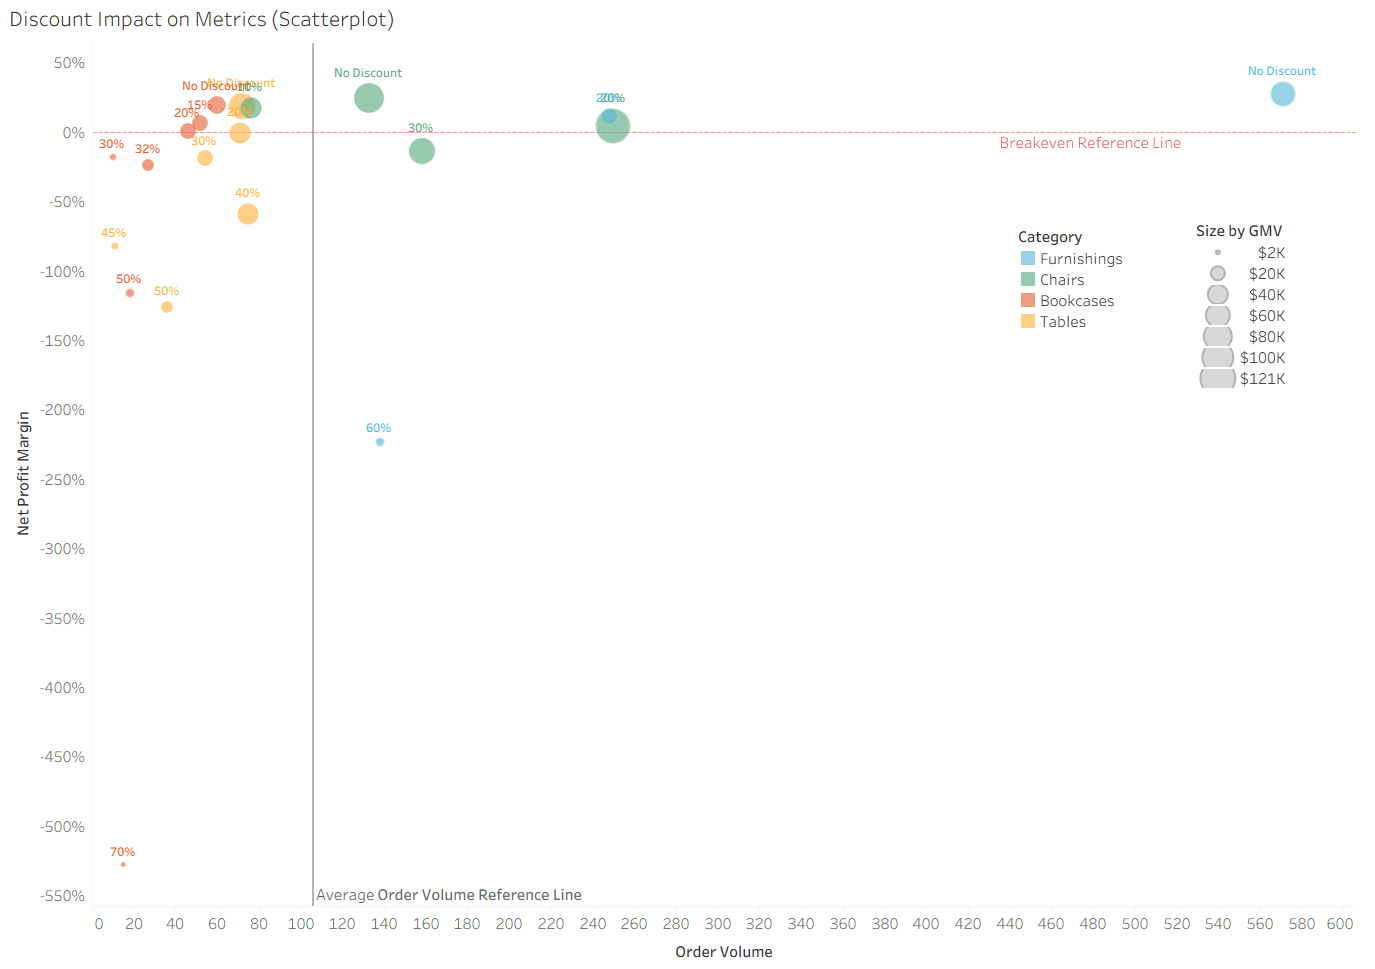

Layout of this report page (visuals, bound fields, positions):
{"tool":"tableau","page":{"name":"Discount impact analysis","canvas":[1000,1000],"units":"permille","ordinal":1},"visuals":[{"type":"worksheet","title":"Discount Impact on Metrics (Scatterplot)","mark":"Automatic","rows":["Calculation_1501950486141198336"],"cols":["Fact_Sale.csv_DD4AFE6C198B4024BF9995ABA0D2F4DA"],"box":[4.8,10,661.4,980]},{"type":"text","box":[522.6,123.6,118.9,62.4]},{"type":"text","box":[178.6,166,347,193.5]},{"type":"legend","title":"Discount Impact on Metrics (Scatterplot)","param":"[federated.0hhiu8l0ea01lu1h5b91g067ybsd].[sum:Sales:qk]","box":[626.4,233.5,90.5,257.2]},{"type":"legend","title":"Discount Impact on Metrics (Scatterplot)","param":"[federated.0hhiu8l0ea01lu1h5b91g067ybsd].[none:Category:nk]","box":[534.1,239.7,84.5,132.3]},{"type":"text","box":[318.7,380.8,204.6,134.8]},{"type":"text","box":[167.2,509.4,156.9,49.9]}]}

Visuals, with their boxes on the dashboard's canvas, which has no fixed pixel size, in thousandths of its width and height (x1, y1, x2, y2). These are canvas units, not pixel positions in the 1375x969 screenshot, which may show the page scaled, cropped or inside an application window:
"Discount Impact on Metrics (Scatterplot)" worksheet: (5,10,666,990)
text: (523,124,642,186)
text: (179,166,526,360)
"Discount Impact on Metrics (Scatterplot)" legend: (626,234,717,491)
"Discount Impact on Metrics (Scatterplot)" legend: (534,240,619,372)
text: (319,381,523,516)
text: (167,509,324,559)
